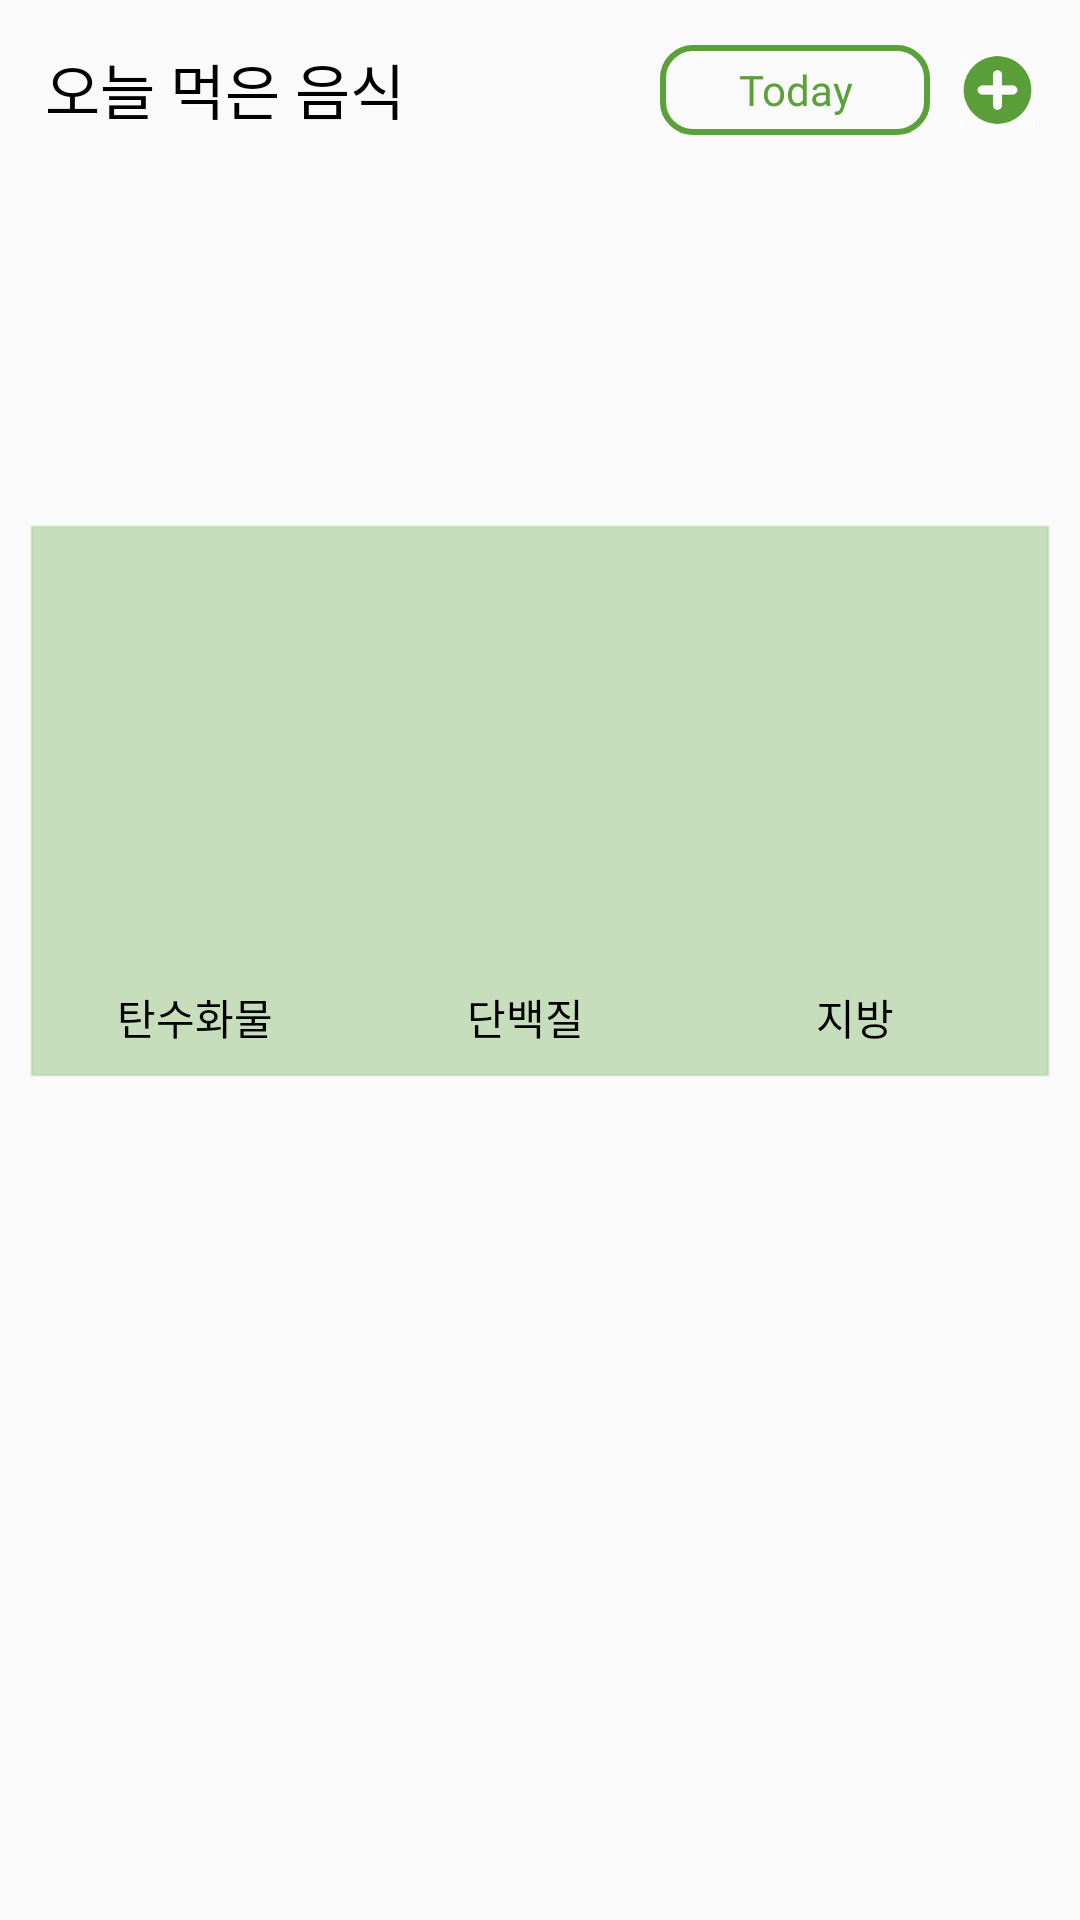

Icons on this 1080x1920 Android screen, each with the point to tap as point (x, y):
add: point (997, 90)
